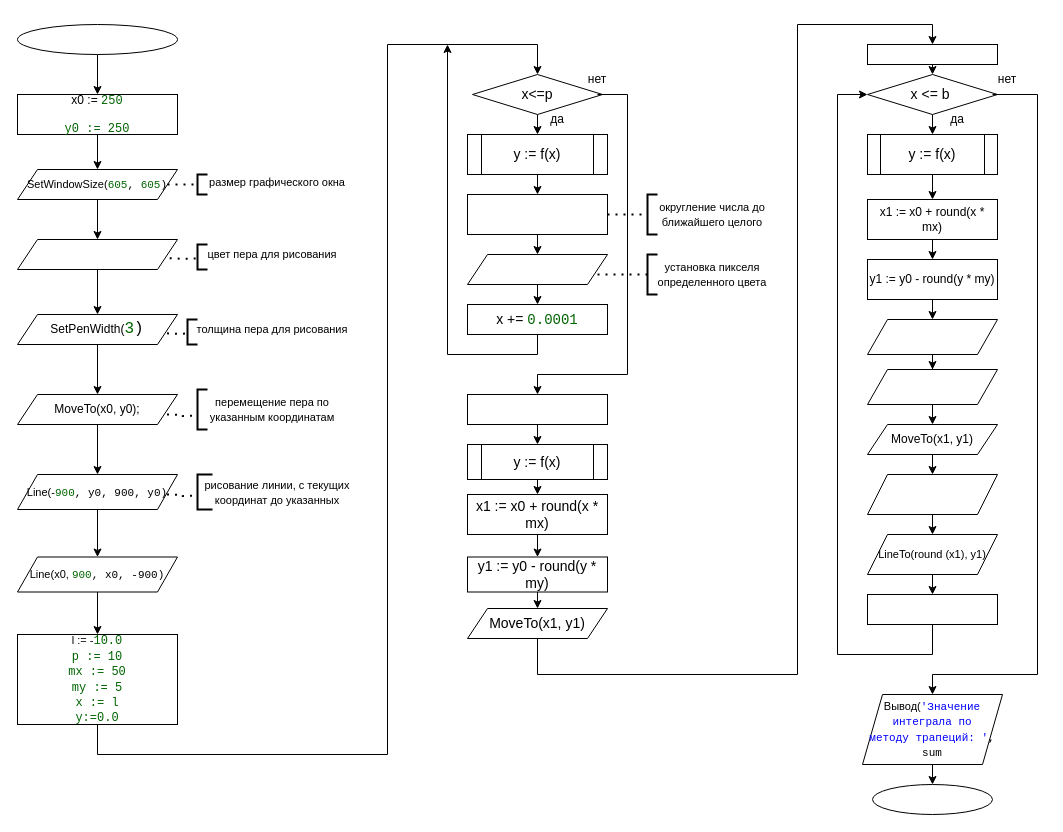
This 1063x832 diagram has some shape labels left out. The shapes that lost their labels are listed below. From the top down, each one's centre as x and y in pixels, then its label:
the point at 97,39: начало
the point at 932,54: h:=(b-a)/n
the point at 537,214: x1 := x0 + round(x * mx) y1 := y0 - round(y * my)
the point at 97,254: SetPenColor(clBlack)
the point at 537,269: setpixel(x1, y1, clred)
the point at 932,336: setpencolor(clblue)
the point at 932,386: lineto(x1, y1)
the point at 537,409: x := a
the point at 932,494: LineTo(round(x1), y0)
the point at 932,609: x += h
the point at 932,799: конец
